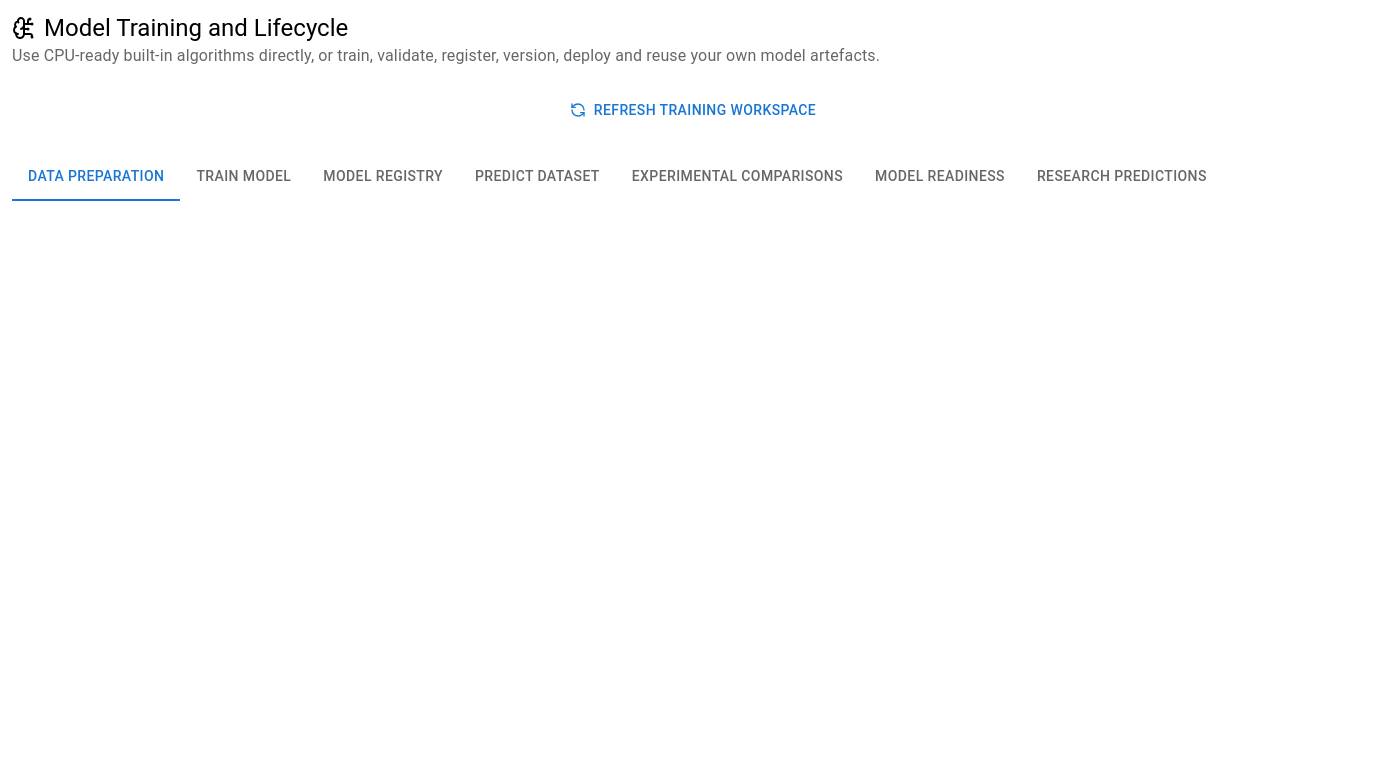
blocks prediction when a required curve is absent
Click the tab "Predict dataset" at (537, 176), box top-left (459, 152), bottom-right (616, 200)
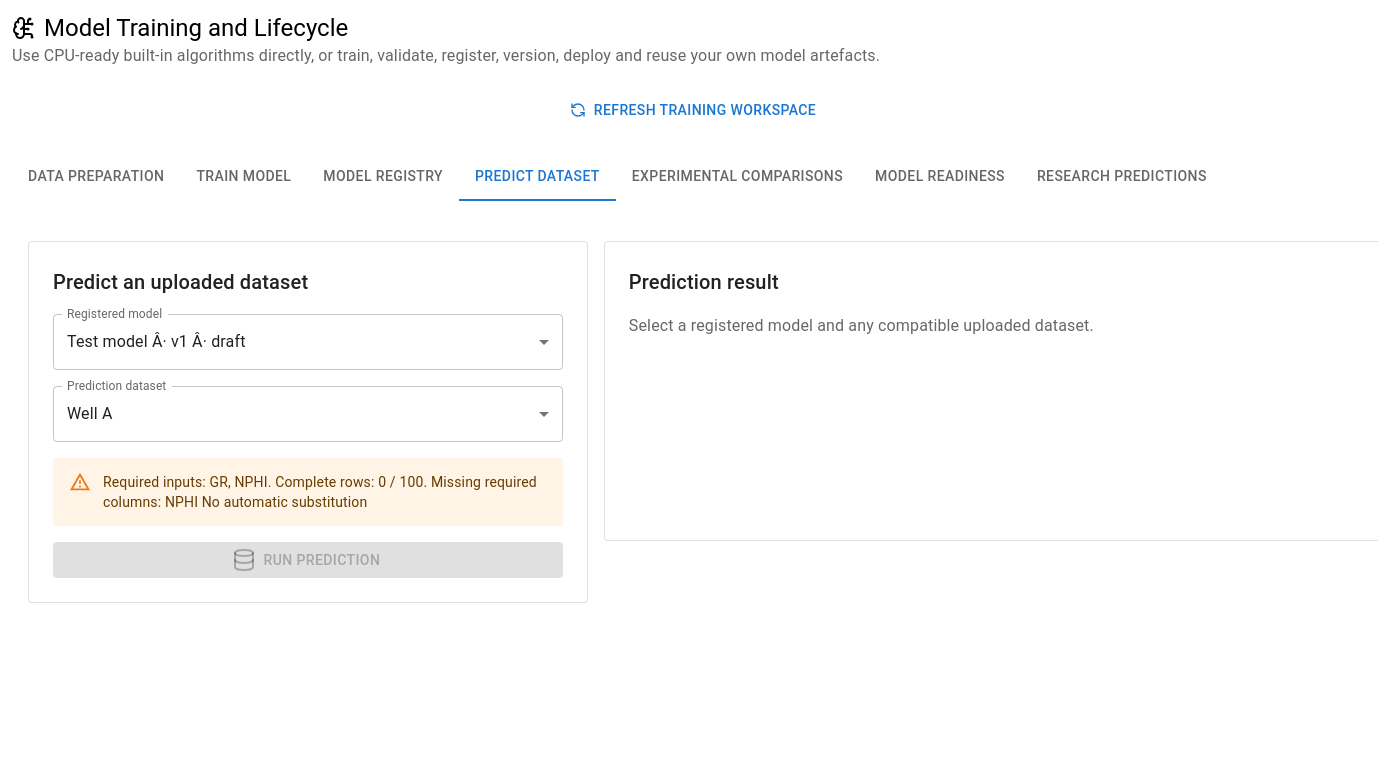
Now the text "Missing required columns: NPHI" is shown, box top-left (103, 474), bottom-right (537, 510)
Now the button "Run prediction" is disabled, box top-left (53, 542), bottom-right (563, 578)
